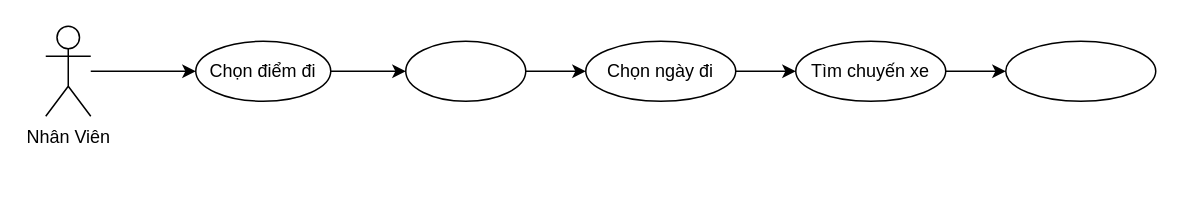
Image size: 1182x197. Some labels were removed from this diagram. The centre of each missing label's shape, as x and y in pixels:
"Chọn chuyến xe" goes at (1080,70).
"Chọn điểm đến" goes at (465,70).
